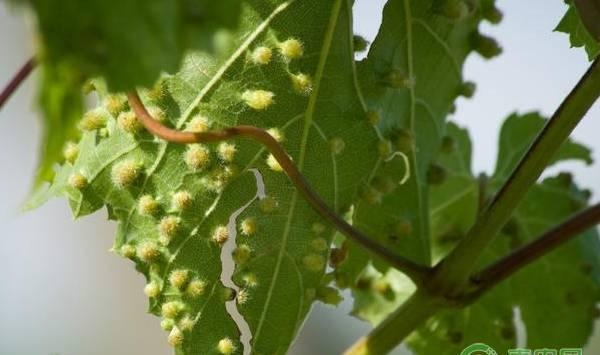Gall_Mite: (65, 81, 301, 327), (230, 8, 458, 257), (346, 109, 581, 336)
